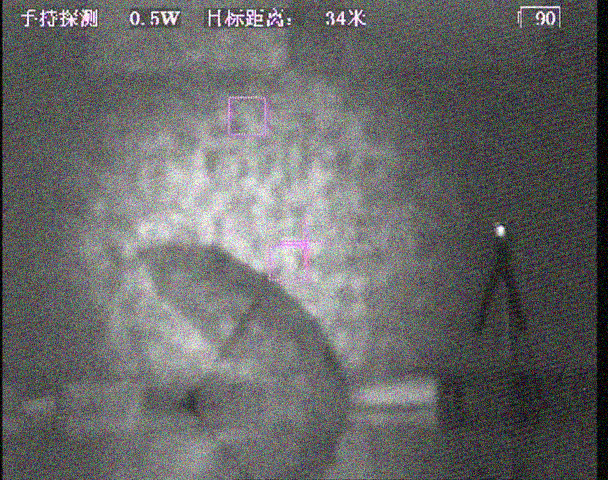my: (495, 224, 507, 236)
